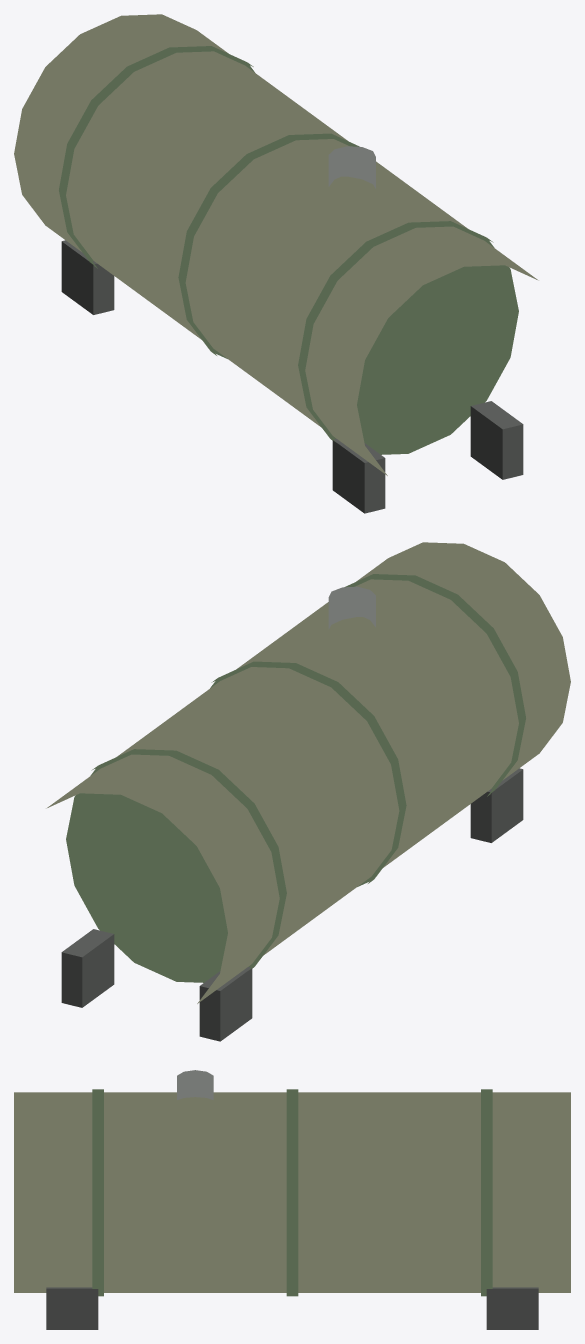
The model's file is i_fuel.glb.
3 renders of one model, top to bottom at view 1: azimuth 30°, elevation 25°; view 2: azimuth 150°, elevation 25°; view 3: azimuth 270°, elevation 25°, orthographic. The views are drawn at different scales.
Parts seen in each view (by area): view 1: body; view 2: body; view 3: body.
Boxes of the visible parts, x1,y1,x2,y2 form: body: (14,14,538,513); body: (46,542,570,1041); body: (14,1070,570,1329).
Bounding box in the file's own units: 3.2 × 3.75 × 8.6.
